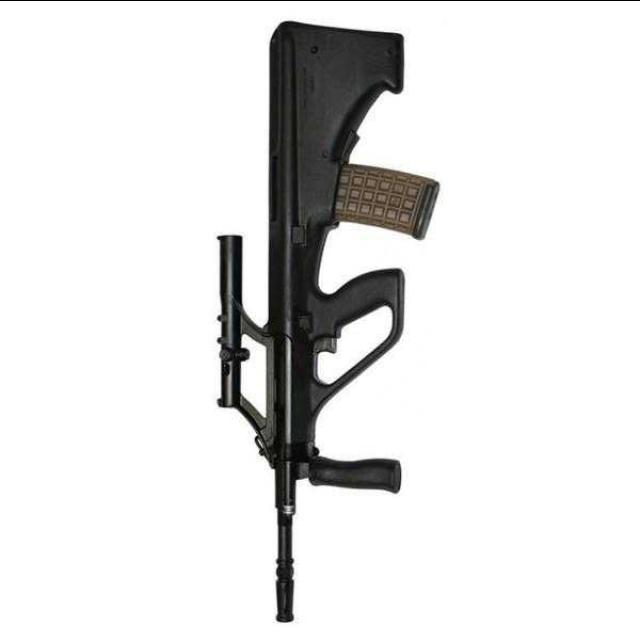heavyweapon: (177, 1, 437, 627)
